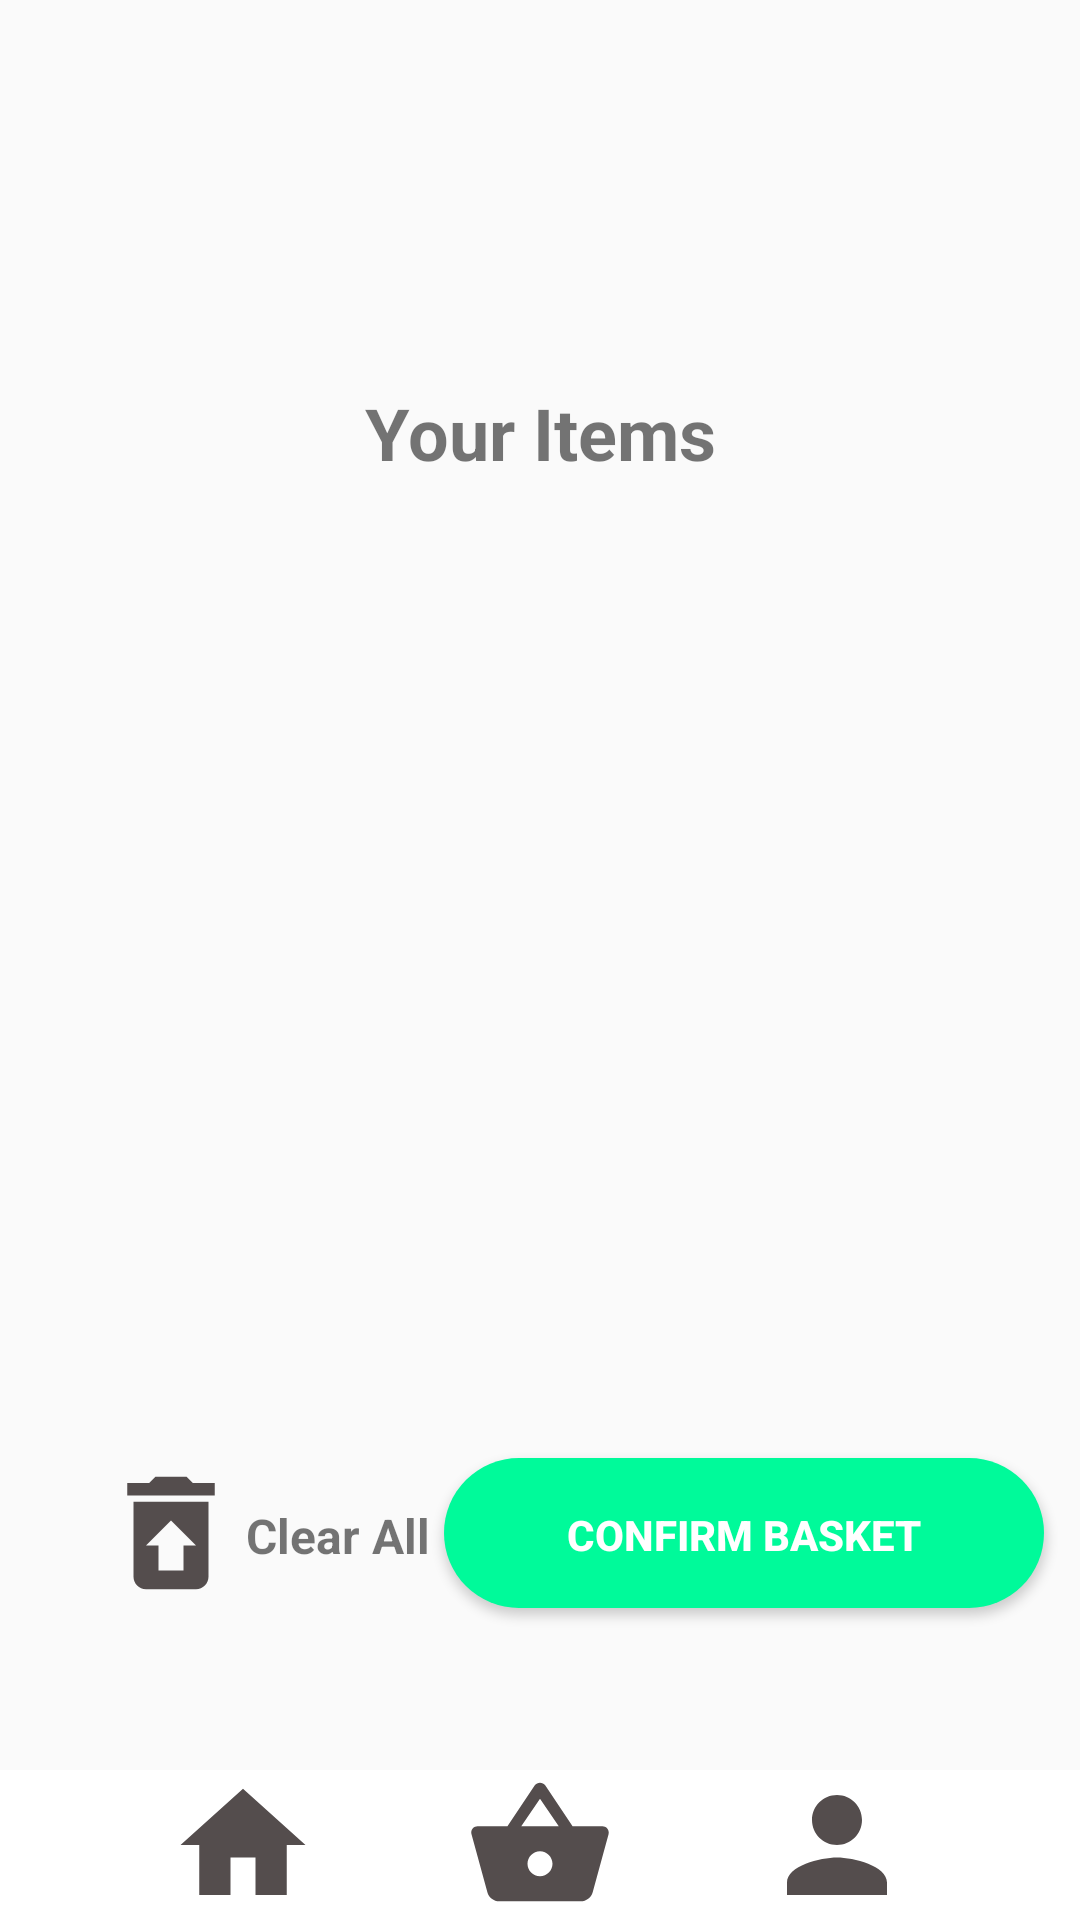

Screen size 1080px x 1920px. Icon name, then its box in pixels as (x1, y1, x2, y2):
basket: (471, 1782, 609, 1902)
home: (181, 1789, 305, 1895)
person: (787, 1795, 887, 1895)
trash: (127, 1476, 215, 1590)
